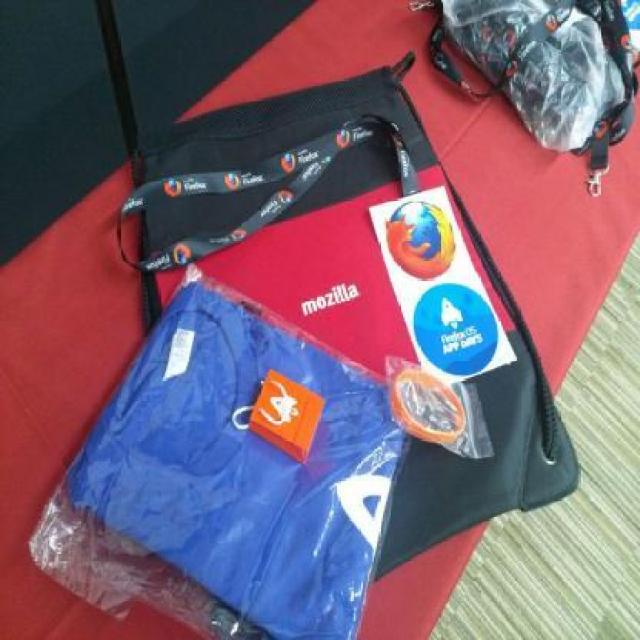plastic bag: (26, 263, 426, 639), (432, 0, 625, 148), (383, 354, 497, 458)
